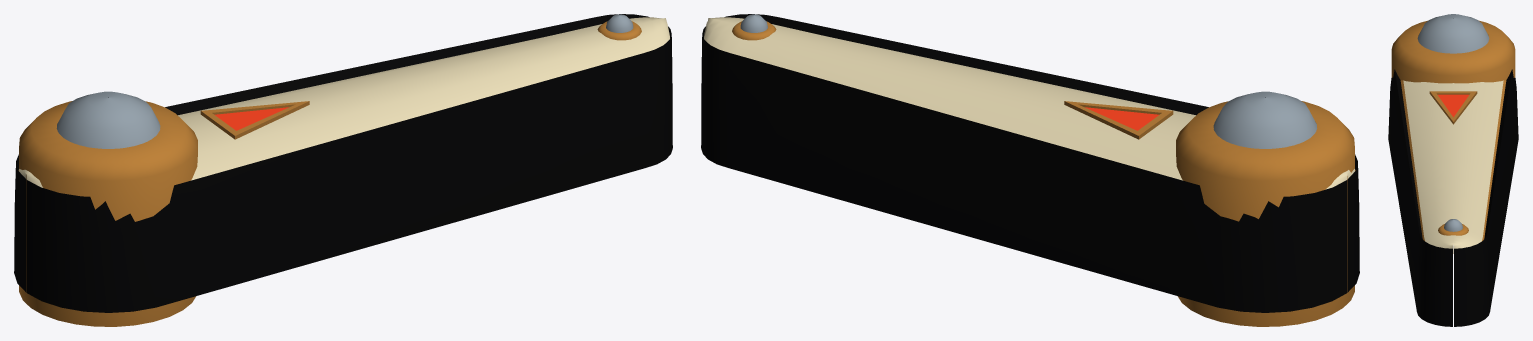
File: aurora-flipper.dae
The picture shows the model from 3 angles, left to right: view 1: azimuth 30°, elevation 25°; view 2: azimuth 150°, elevation 25°; view 3: azimuth 270°, elevation 25°; orthographic projection. The views are drawn at different scales.
Parts seen in each view (by area): view 1: black_rubber, flipper_art, accent, metal, sling_lens; view 2: black_rubber, flipper_art, accent, metal, sling_lens; view 3: black_rubber, flipper_art, accent, metal, sling_lens.
Boxes of the visible parts, x1,y1,x2,y2 form: black_rubber: (14, 14, 672, 312); flipper_art: (19, 17, 669, 187); accent: (18, 21, 641, 326); metal: (56, 14, 633, 148); sling_lens: (214, 107, 288, 130); black_rubber: (701, 14, 1359, 312); flipper_art: (704, 17, 1354, 189); accent: (732, 21, 1355, 326); metal: (740, 14, 1317, 148); sling_lens: (1085, 107, 1159, 130); black_rubber: (1388, 69, 1518, 326); flipper_art: (1403, 80, 1503, 252); accent: (1391, 20, 1515, 253); metal: (1417, 14, 1489, 231); sling_lens: (1438, 94, 1468, 117).
Bounding box in the file's own units: 1.25 × 0.358 × 0.32.
